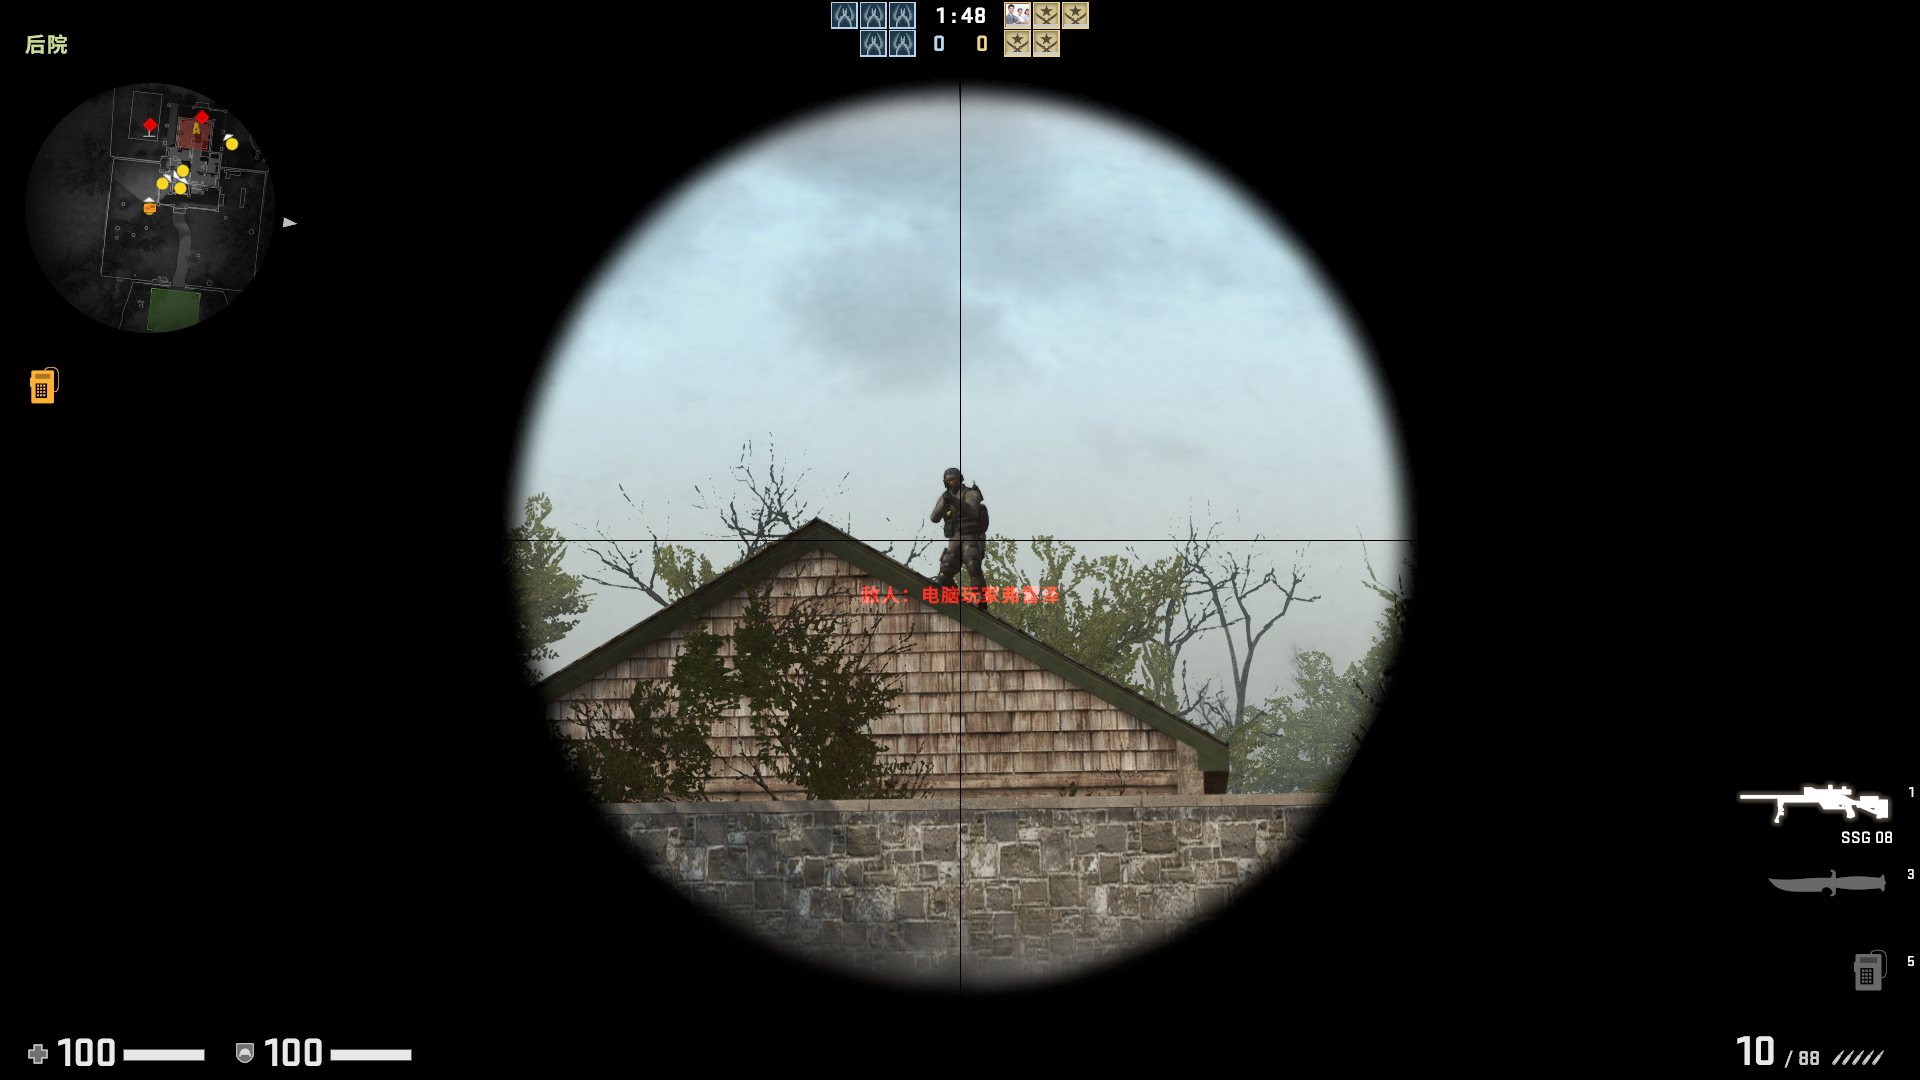person: (927, 469, 992, 606)
